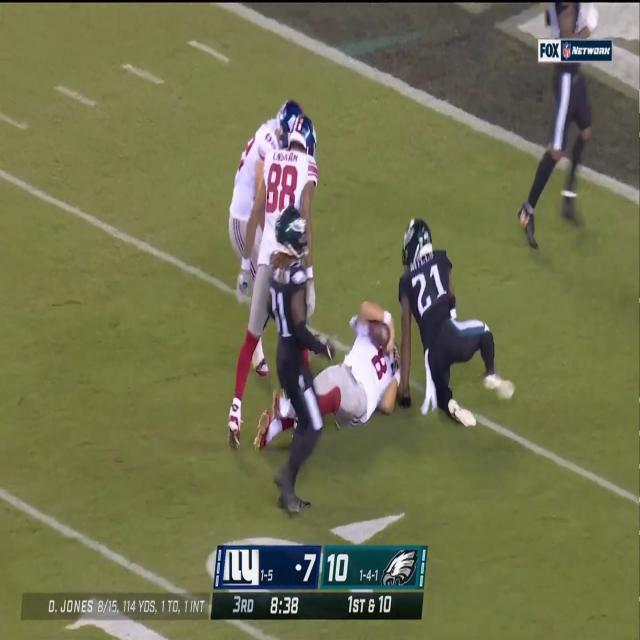football: (370, 309, 391, 351)
players: (507, 4, 630, 248), (386, 216, 516, 432), (239, 84, 303, 455), (254, 204, 338, 468), (292, 307, 403, 442)
